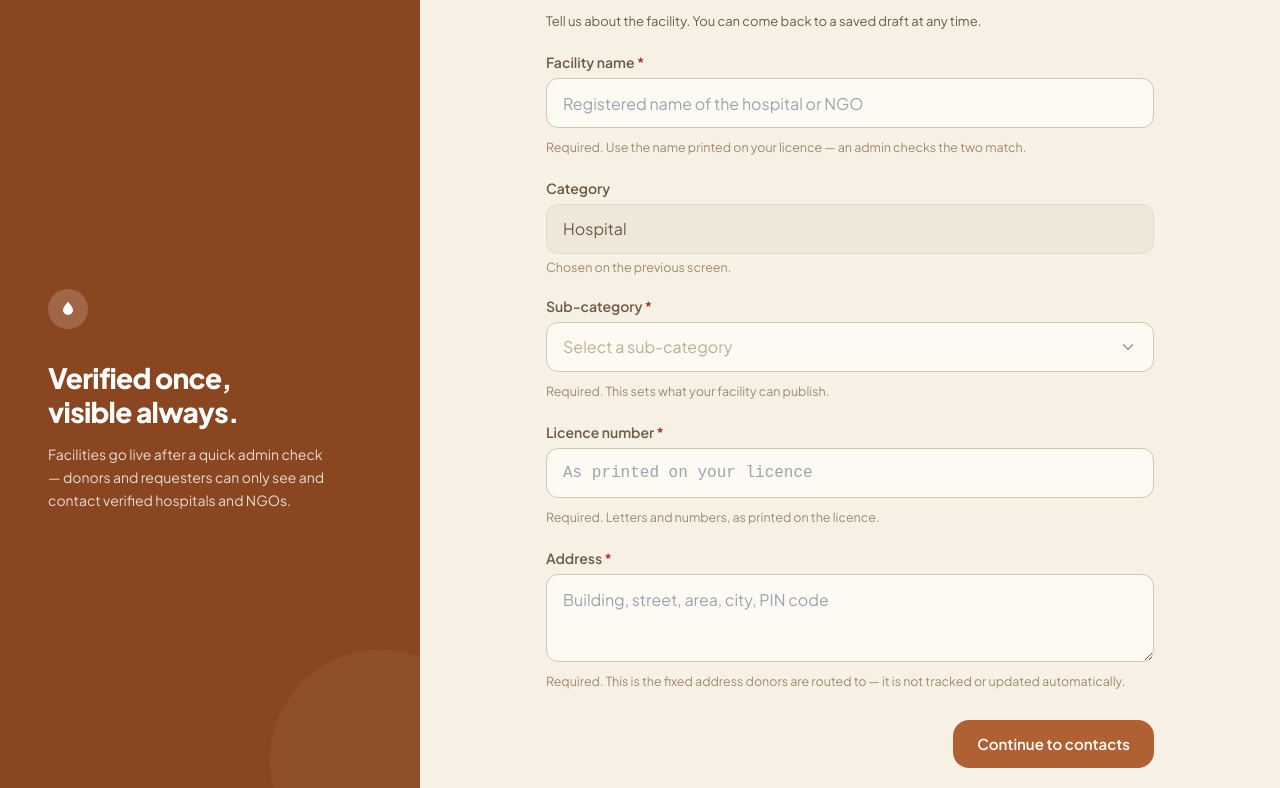
Scenario: FacilityRegistrationPage › shows validation hints and stays on Step 1 when Continue is clicked with an empty form
The image size is (1280, 788).
(page scrolled)
Click the button "Continue to contacts".
click(1054, 744)  # box [953, 720, 1154, 768]
(page scrolled)
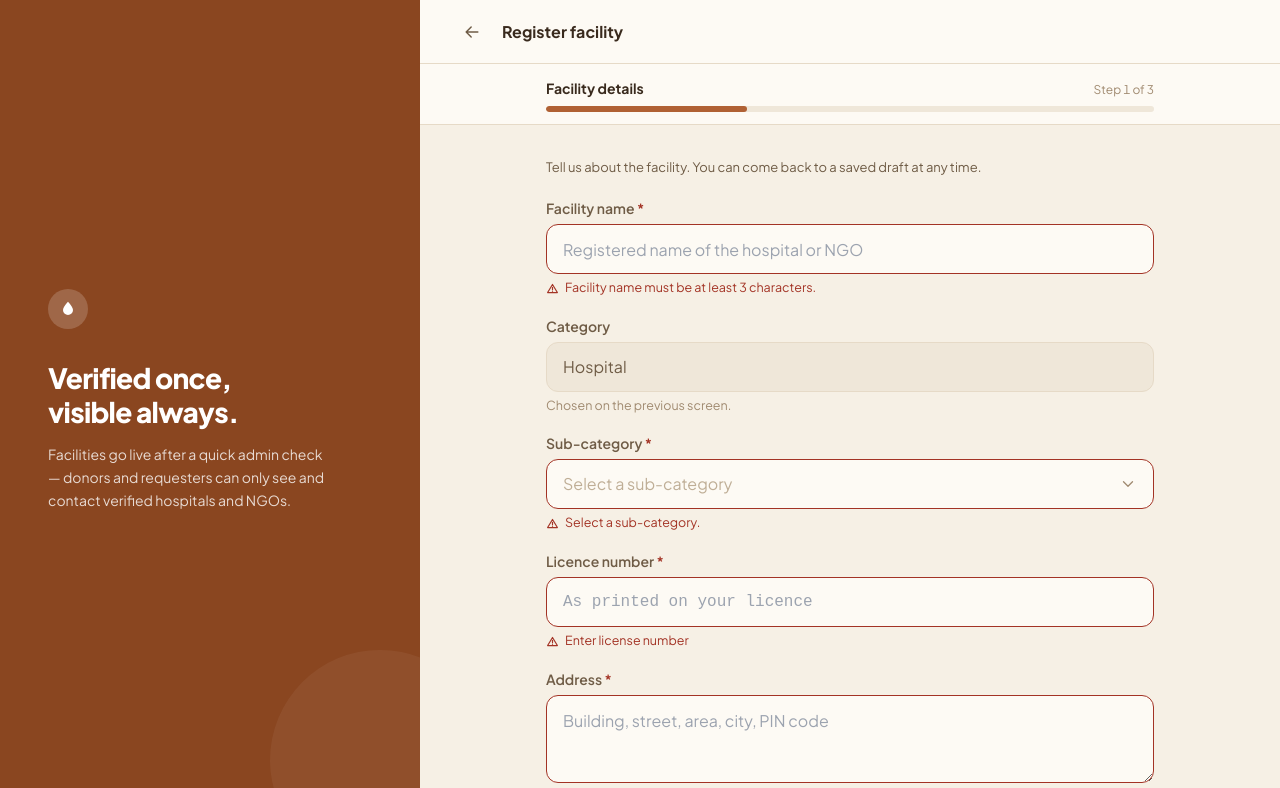
Expected: the text "Facility details" is shown, [546, 78, 644, 98]
Result: the text "Facility name must be at least 3 characters." is shown at [546, 279, 816, 295]
